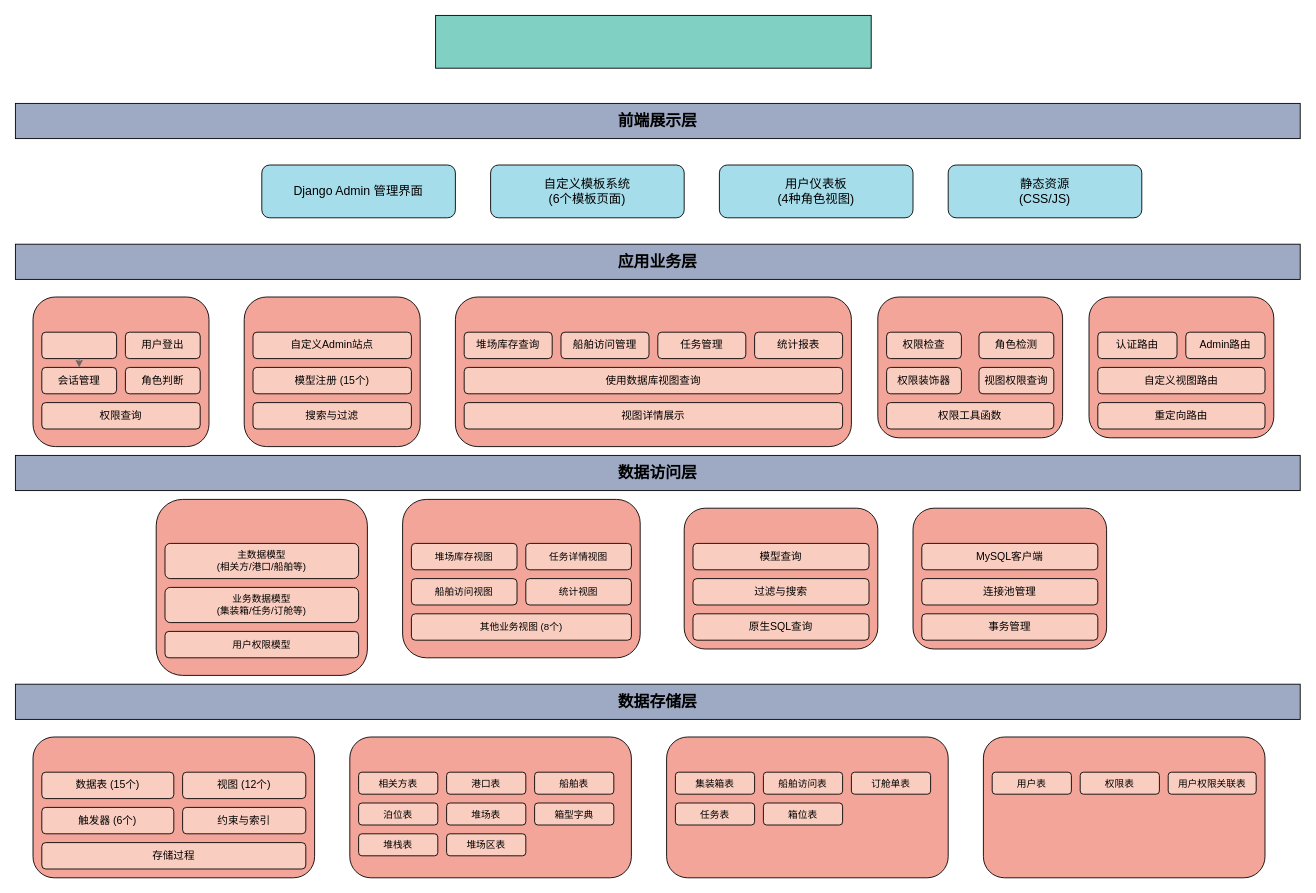
Image size: 1316x893. Some labels were removed from this diagram. Here are the shapes that lost their labels. From the top down, the box of each, then its label:
(435, 15, 871, 68): 港口集装箱运营系统
(41, 331, 117, 359): 用户登录
(32, 296, 209, 447): 认证授权模块
(243, 296, 420, 447): 管理模块
(455, 296, 851, 447): 功能视图模块
(877, 296, 1063, 438): 权限工具模块
(1088, 296, 1274, 438): URL路由配置
(155, 499, 367, 675): Django Models (15个数据模型)
(402, 499, 640, 658): 数据库视图 (12个业务视图)
(683, 507, 878, 649): ORM查询接口
(912, 507, 1107, 649): 数据库连接器
(32, 736, 315, 878): MySQL 数据库
(349, 736, 631, 878): 主数据表
(666, 736, 948, 878): 业务数据表
(983, 736, 1265, 878): 用户权限表
